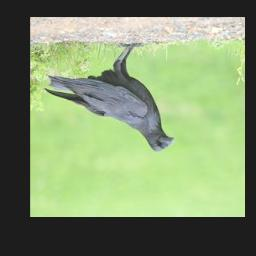Crow: (43, 42, 175, 153)
